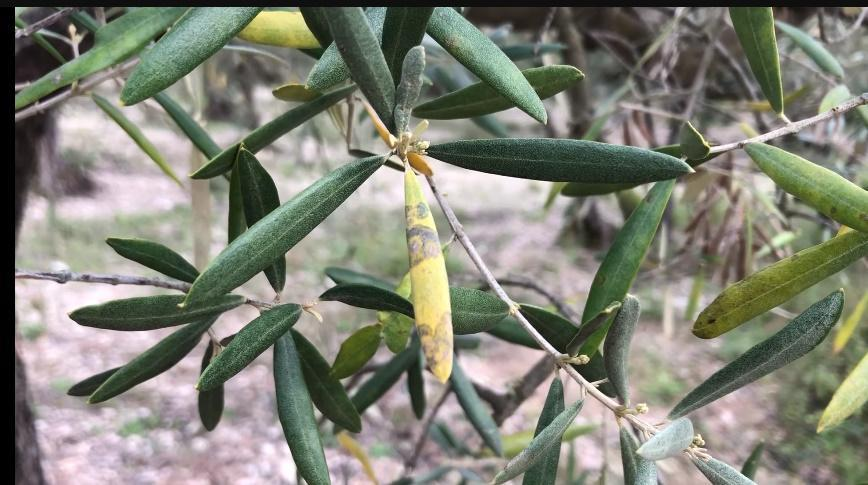OlivePeacockSpot: (692, 235, 868, 338), (397, 166, 458, 380), (745, 140, 868, 230)
